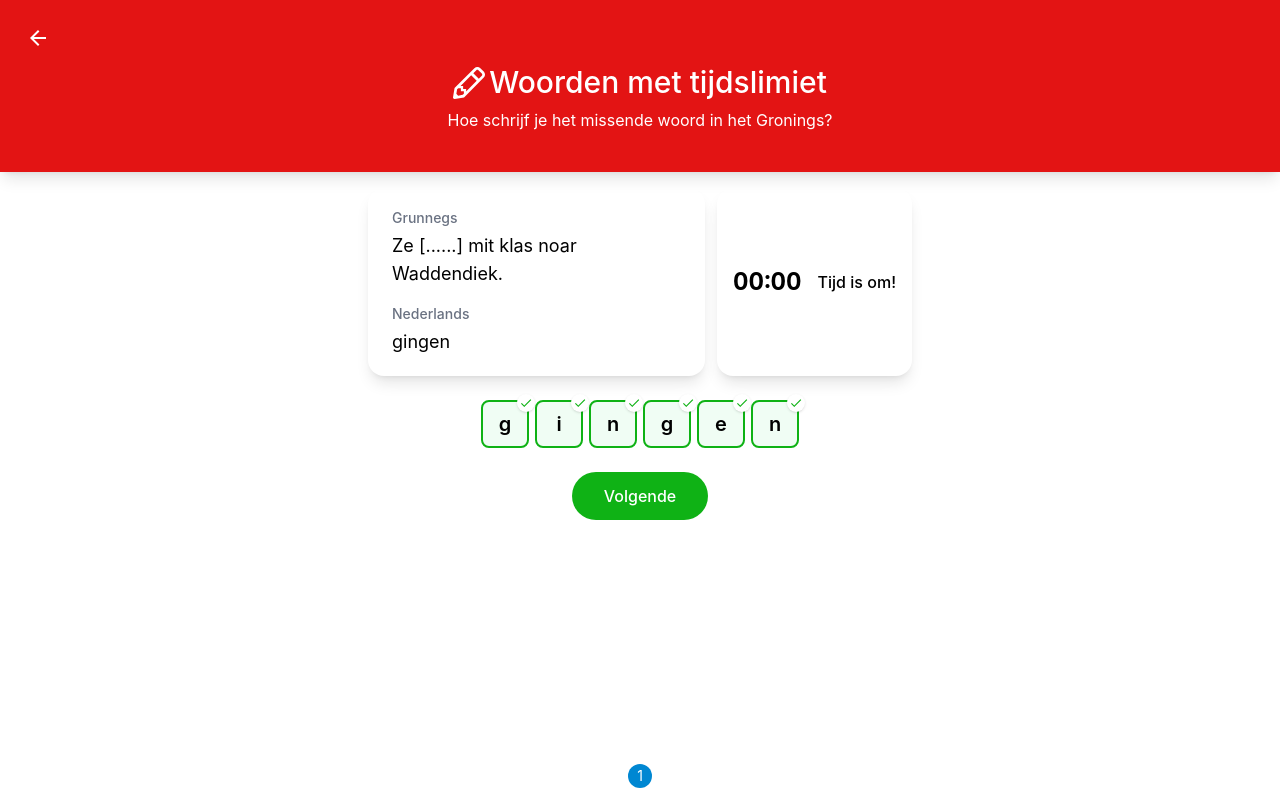
it: the clock › requires tapping "Volgende" before the feedback appears, then shows "Jammer!" with a single response
Click the button "Volgende". click: (640, 496)
box: [572,472,708,520]
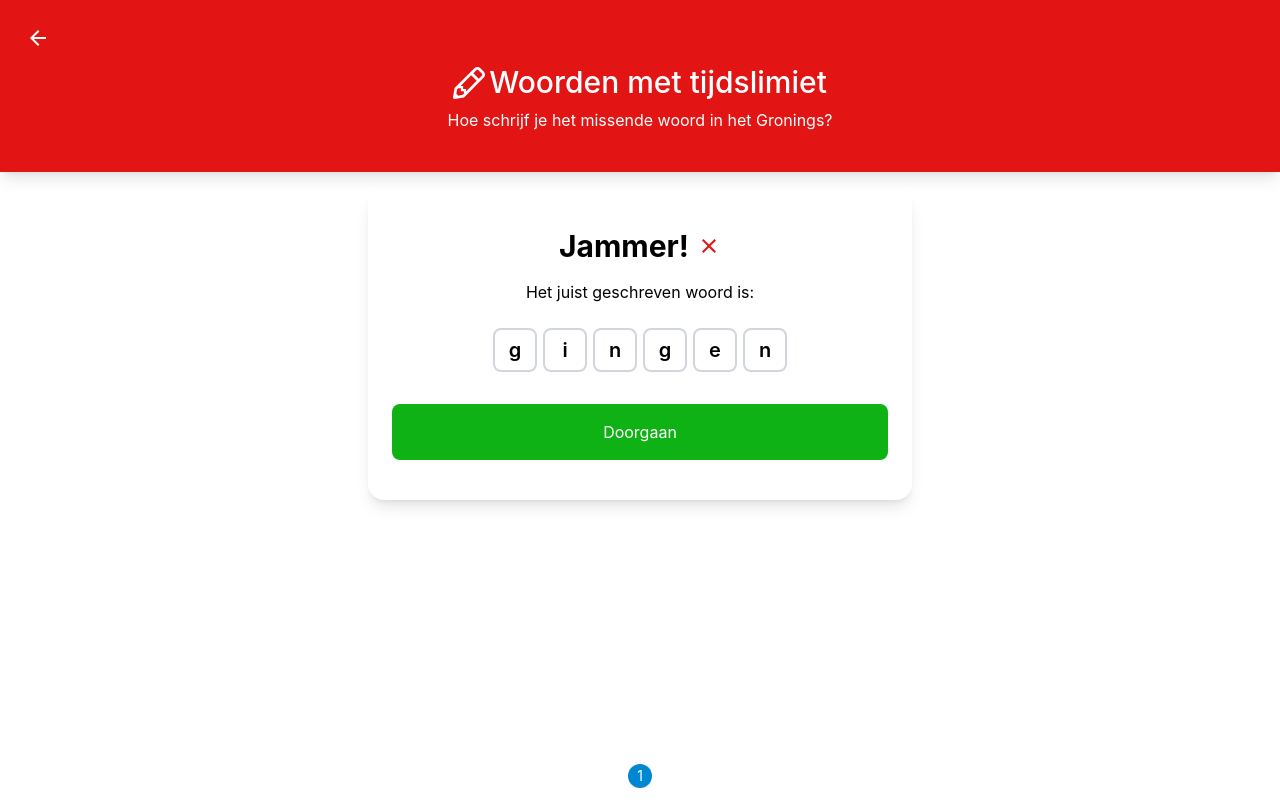
Expected: the text "Jammer!" is shown, [559,228,721,264]
Expected: the text "Het juist geschreven woord is:" is shown, [526,282,754,302]
